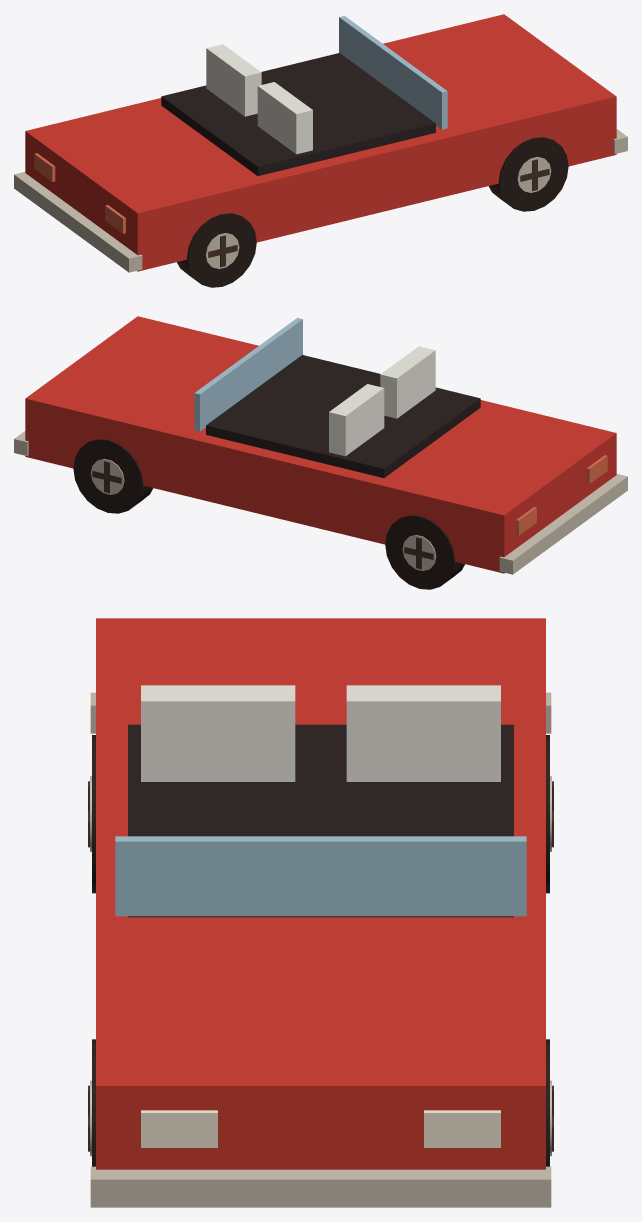
Rendered from convertible.glb.
3 renders of one model, top to bottom at view 1: azimuth 30°, elevation 25°; view 2: azimuth 150°, elevation 25°; view 3: azimuth 270°, elevation 25°, orthographic. The views are drawn at different scales.
Visible parts, largest first — view 1: Box1, Box2, Box5, Part2, Part4, Box7, Box3, Box4, Box11; view 2: Box1, Box2, Box5, Part6, Part8, Box7, Box4, Box3, Box9; view 3: Box1, Box5, Box2, Box6, Box3, Box4, Box8, Box10.
Part boxes in pixels (bbox=[...]): Box1: bbox=[25, 14, 616, 271]; Box2: bbox=[161, 53, 435, 175]; Box5: bbox=[339, 16, 447, 129]; Part2: bbox=[177, 213, 256, 287]; Part4: bbox=[488, 137, 568, 211]; Box7: bbox=[14, 172, 142, 272]; Box3: bbox=[257, 82, 312, 154]; Box4: bbox=[206, 44, 261, 116]; Box11: bbox=[34, 153, 55, 181]; Box1: bbox=[25, 316, 616, 573]; Box2: bbox=[206, 355, 480, 477]; Box5: bbox=[194, 318, 302, 431]; Part6: bbox=[385, 515, 464, 589]; Part8: bbox=[73, 439, 153, 513]; Box7: bbox=[499, 474, 627, 574]; Box4: bbox=[329, 384, 384, 456]; Box3: bbox=[380, 346, 435, 418]; Box9: bbox=[586, 455, 607, 483]; Box1: bbox=[96, 618, 545, 1169]; Box5: bbox=[115, 836, 526, 916]; Box2: bbox=[128, 724, 513, 917]; Box6: bbox=[90, 1166, 551, 1207]; Box3: bbox=[141, 685, 295, 781]; Box4: bbox=[346, 685, 500, 781]; Box8: bbox=[141, 1110, 217, 1147]; Box10: bbox=[424, 1110, 500, 1147].
Size of the model in its own units: 4.48 by 1.22 by 1.81.
